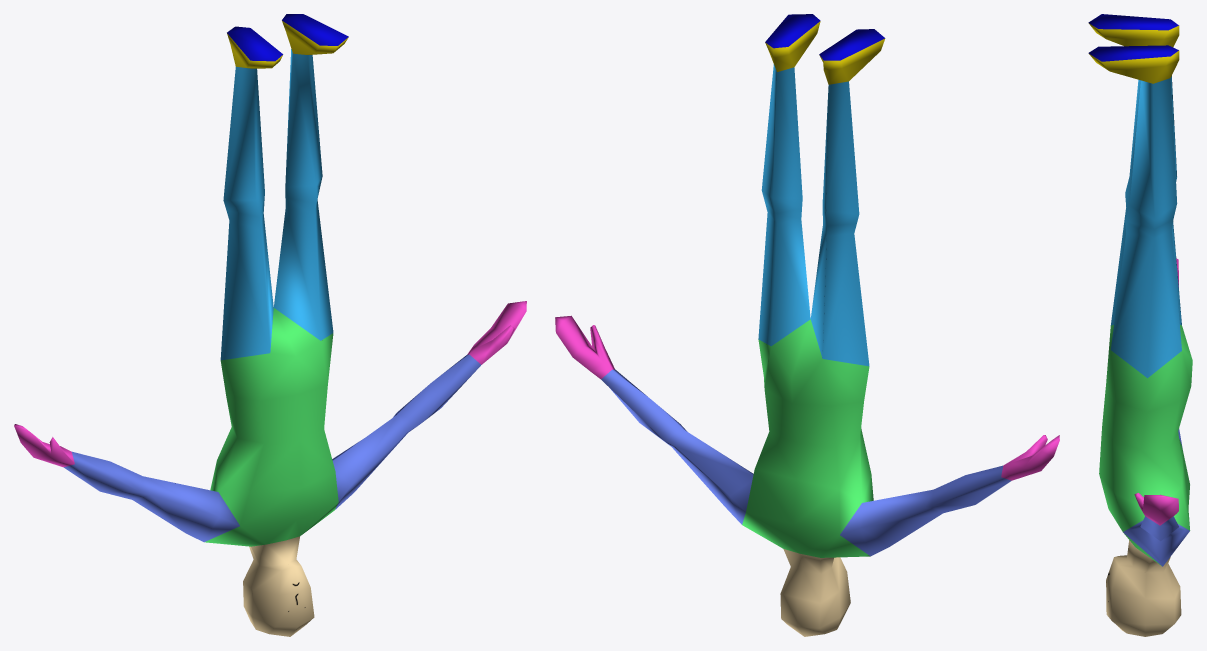
File: GenericHuman.fbx
3 views of the same model, side by side, from view 1: azimuth 30°, elevation 25°; view 2: azimuth 150°, elevation 25°; view 3: azimuth 270°, elevation 25° (orthographic).
Visible parts, largest first — view 1: HumanoidBase_Overlapping; view 2: HumanoidBase_Overlapping; view 3: HumanoidBase_Overlapping.
Boxes of the visible parts, x1,y1,x2,y2 form: HumanoidBase_Overlapping: (14, 14, 526, 636); HumanoidBase_Overlapping: (555, 14, 1059, 636); HumanoidBase_Overlapping: (1088, 14, 1192, 636).
Bounding box in the file's own units: 1.61 × 1.8 × 0.2862.
